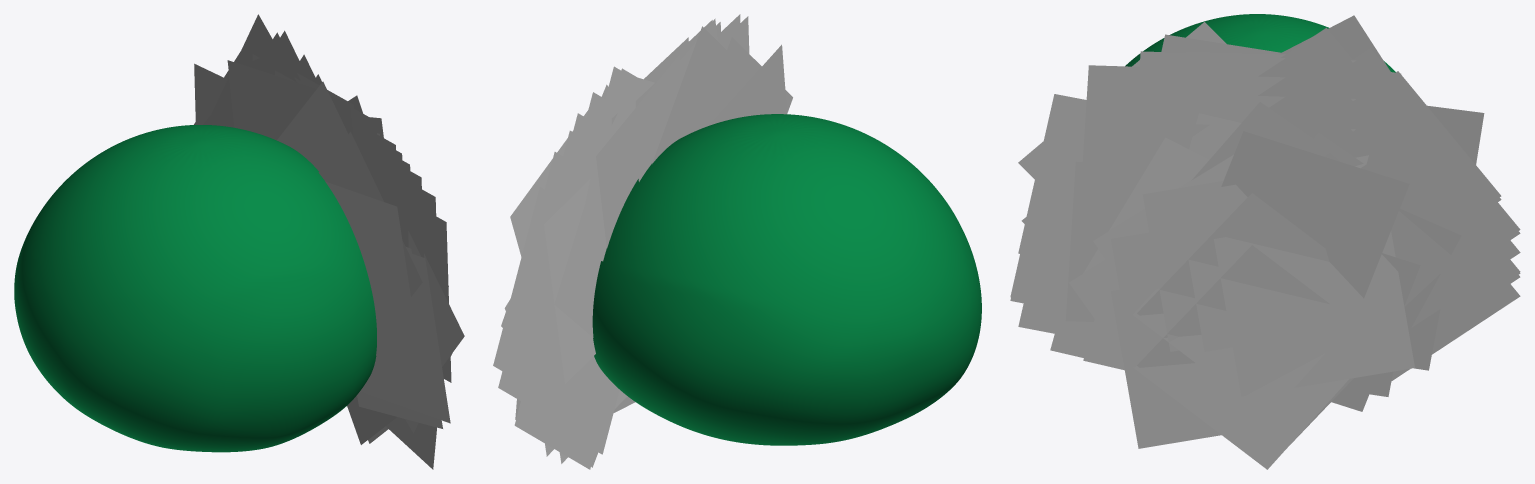
Rendered from DeadShrub.FBX.
The picture shows the model from 3 angles, left to right: view 1: azimuth 30°, elevation 25°; view 2: azimuth 150°, elevation 25°; view 3: azimuth 270°, elevation 25°; orthographic projection. The views are drawn at different scales.
Parts seen in each view (by area): view 1: Sphere002, Plane008, Plane006, Plane005, Plane007, Plane003, Plane009, Plane035, Plane004, Plane010, Plane074, Plane002 (+9 smaller); view 2: Sphere002, Plane002, Plane017, Plane003, Plane006, Plane004, Plane005, Plane016, Plane008, Plane001, Plane007, Plane027 (+12 smaller); view 3: Plane068, Plane065, Plane072, Plane051, Plane054, Plane070, Plane067, Plane073, Plane069, Plane074, Plane066, Plane071 (+48 smaller).
Boxes of the visible parts, <box> form: Sphere002: <box>14,125,376,452</box>; Plane008: <box>325,181,422,371</box>; Plane006: <box>277,81,348,171</box>; Plane005: <box>257,72,353,140</box>; Plane007: <box>318,132,422,296</box>; Plane003: <box>208,14,296,127</box>; Plane009: <box>360,356,429,415</box>; Plane035: <box>366,254,450,423</box>; Plane004: <box>227,60,316,135</box>; Plane010: <box>353,132,396,205</box>; Plane074: <box>386,417,436,469</box>; Plane002: <box>194,63,227,124</box>; Sphere002: <box>592,114,981,445</box>; Plane002: <box>544,179,595,383</box>; Plane017: <box>527,370,619,454</box>; Plane003: <box>575,70,654,261</box>; Plane006: <box>652,26,726,163</box>; Plane004: <box>596,55,680,247</box>; Plane005: <box>631,18,717,181</box>; Plane016: <box>527,322,609,408</box>; Plane008: <box>709,44,787,125</box>; Plane001: <box>554,207,600,337</box>; Plane007: <box>698,37,792,129</box>; Plane027: <box>514,409,594,469</box>; Plane068: <box>1213,231,1414,396</box>; Plane065: <box>1221,131,1409,298</box>; Plane072: <box>1133,363,1348,469</box>; Plane051: <box>1361,143,1501,327</box>; Plane054: <box>1065,161,1148,321</box>; Plane070: <box>1137,193,1329,315</box>; Plane067: <box>1177,184,1247,351</box>; Plane073: <box>1137,245,1353,444</box>; Plane069: <box>1111,232,1164,396</box>; Plane074: <box>1111,290,1221,448</box>; Plane066: <box>1142,181,1223,351</box>; Plane071: <box>1133,288,1325,417</box>.
Size of the model in its own units: 22.36 by 26.38 by 28.97.
